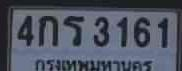1: (157, 17, 167, 47), (116, 16, 126, 46)
3: (92, 16, 108, 46)
4: (16, 14, 32, 45)
6: (133, 16, 149, 46)
A01: (38, 15, 57, 45)
A35: (63, 15, 83, 45)
BKK: (34, 57, 153, 71)
